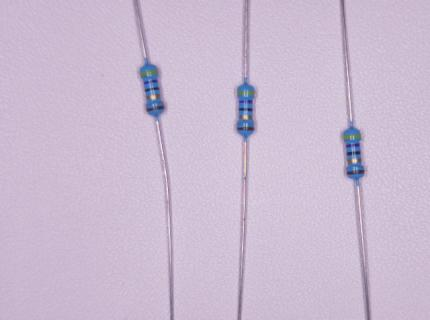Black band: (145, 87, 159, 93), (346, 151, 361, 155), (239, 108, 253, 112)
Brown band: (146, 105, 164, 113), (347, 169, 365, 175), (237, 127, 254, 131)
Gold band: (146, 94, 161, 100), (347, 158, 361, 164), (239, 115, 253, 120)
Violet band: (143, 80, 158, 85), (346, 143, 360, 148), (239, 100, 252, 103)
Yellow band: (140, 69, 158, 76), (343, 134, 361, 139), (237, 91, 254, 95)
